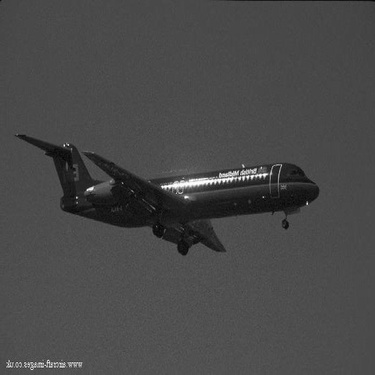airplane: (7, 107, 331, 262)
